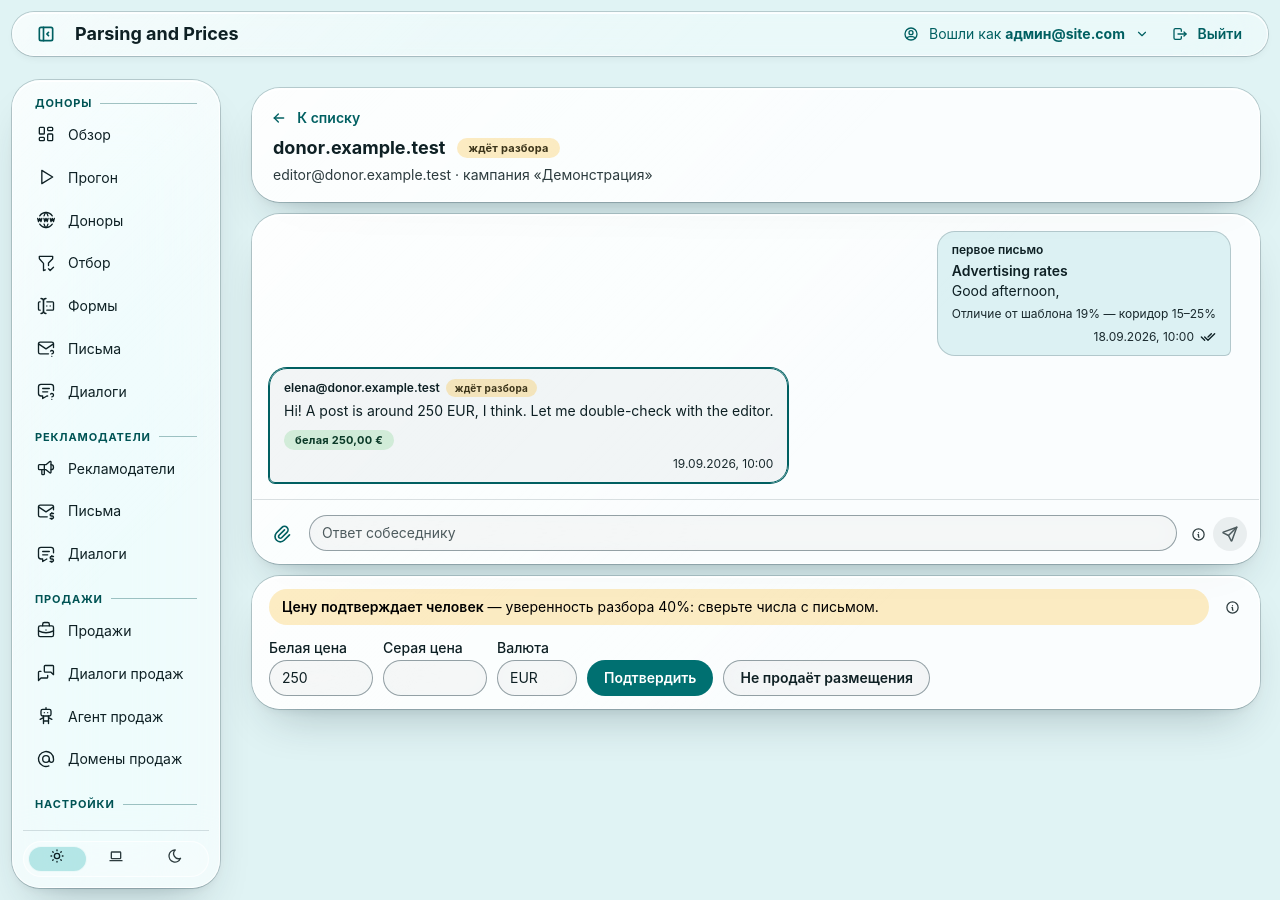
it: карточка переписки › цена подтверждена, но в карточку не легла — там слово новее, так и сказано
Expected: the heading "donor.example.test" is shown, [273, 135, 445, 161]
Click the button "Подтвердить": (650, 678) [587, 660, 714, 696]
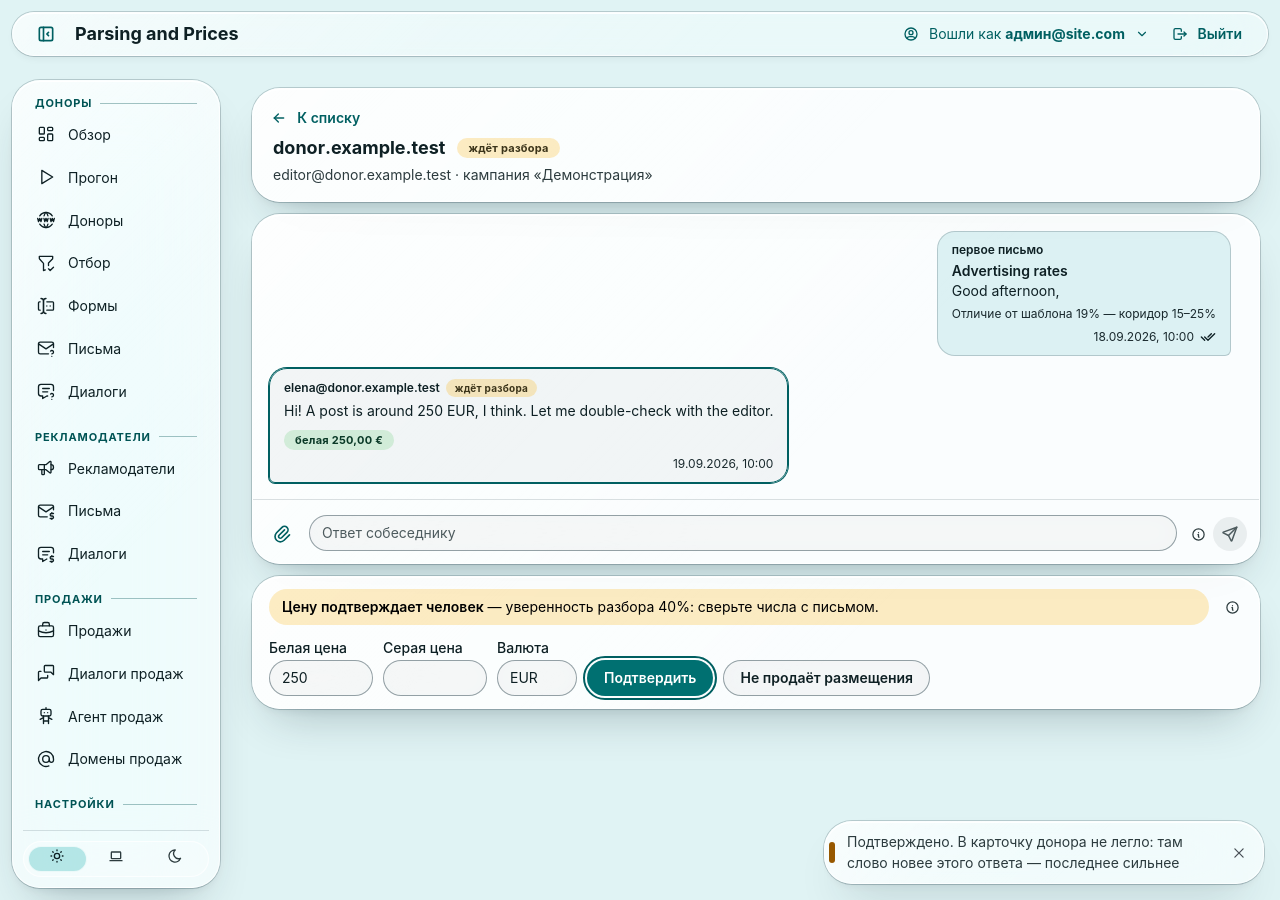
Now the text "В карточку донора не легло: там слово новее этого ответа" is shown, box [847, 833, 1183, 871]
